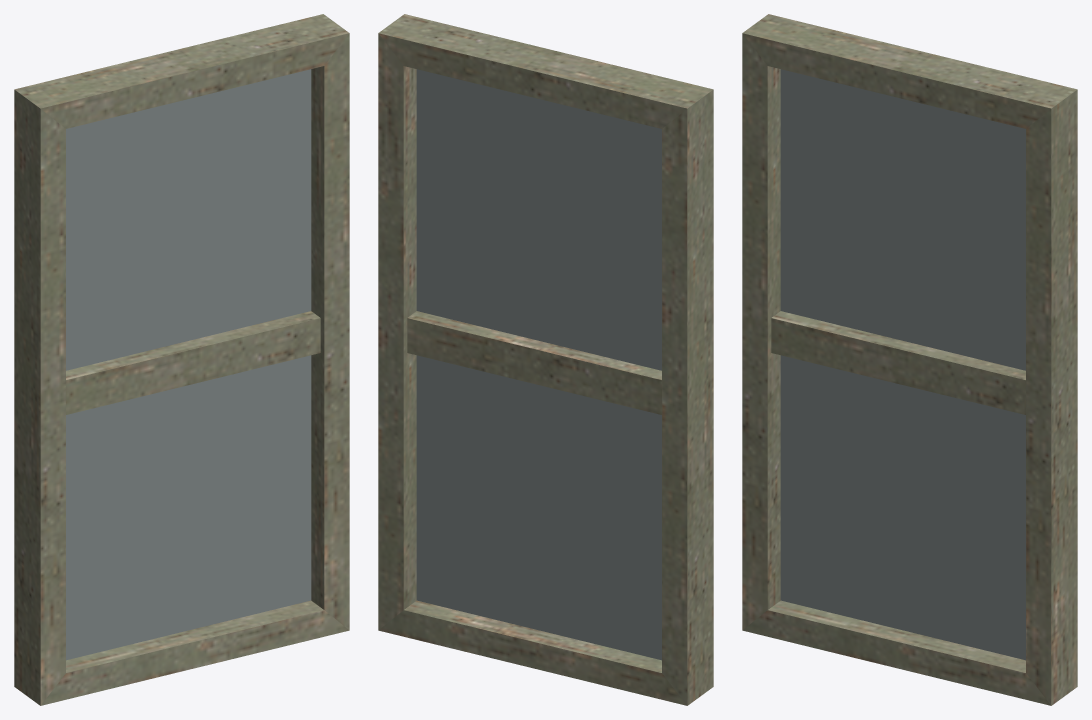
The model's file is TimberWindow_650x1200_Insert.fbx.
3 renders of one model, left to right at view 1: azimuth 30°, elevation 25°; view 2: azimuth 150°, elevation 25°; view 3: azimuth 330°, elevation 25°, orthographic.
Parts seen in each view (by area): view 1: TimberWindow_650x1200_Insert; view 2: TimberWindow_650x1200_Insert; view 3: TimberWindow_650x1200_Insert.
Part boxes in pixels (x1,y1,x2,y2): TimberWindow_650x1200_Insert: [14, 14, 349, 705]; TimberWindow_650x1200_Insert: [378, 14, 713, 705]; TimberWindow_650x1200_Insert: [742, 14, 1077, 705].
Size of the model in its own units: 65 by 120 by 9.55.
